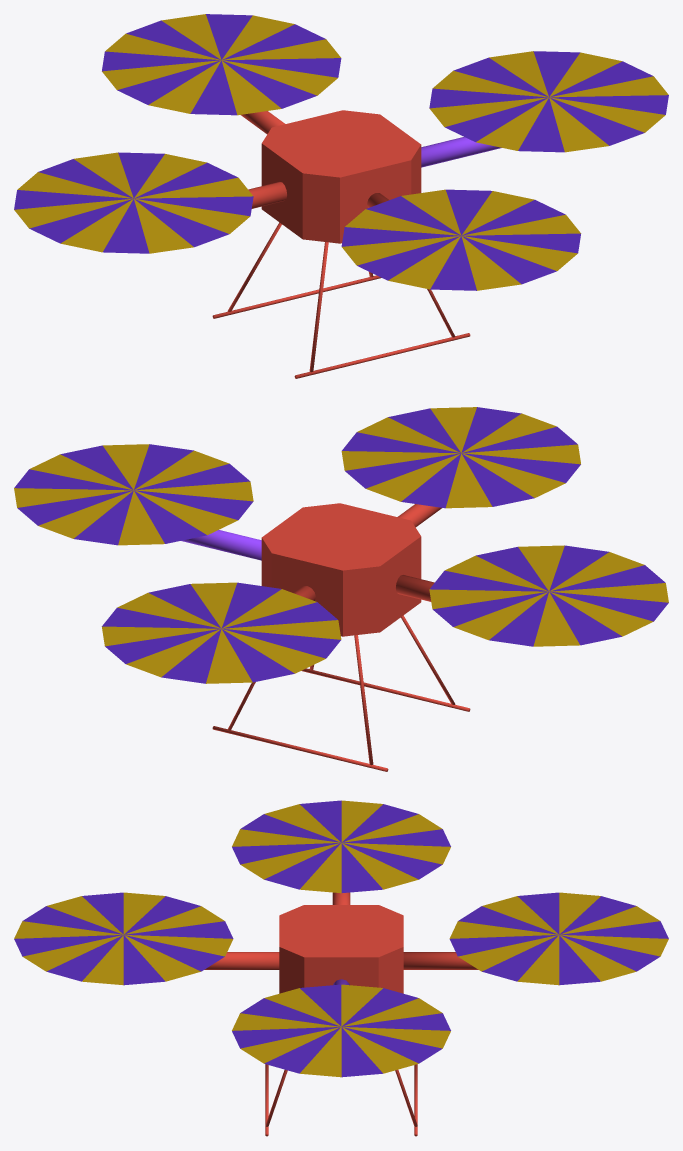
File: quadrotor_base_slave.dae
The picture shows the model from 3 angles, top to bottom: view 1: azimuth 30°, elevation 25°; view 2: azimuth 150°, elevation 25°; view 3: azimuth 270°, elevation 25°; orthographic projection. The views are drawn at different scales.
Parts seen in each view (by area): view 1: MainBody_002; view 2: MainBody_002; view 3: MainBody_002.
Part boxes in pixels (bbox=[...]): MainBody_002: bbox=[14, 14, 668, 378]; MainBody_002: bbox=[14, 407, 668, 771]; MainBody_002: bbox=[14, 800, 668, 1136].
Size of the model in its own units: 0.7911 by 0.7911 by 0.2225.
